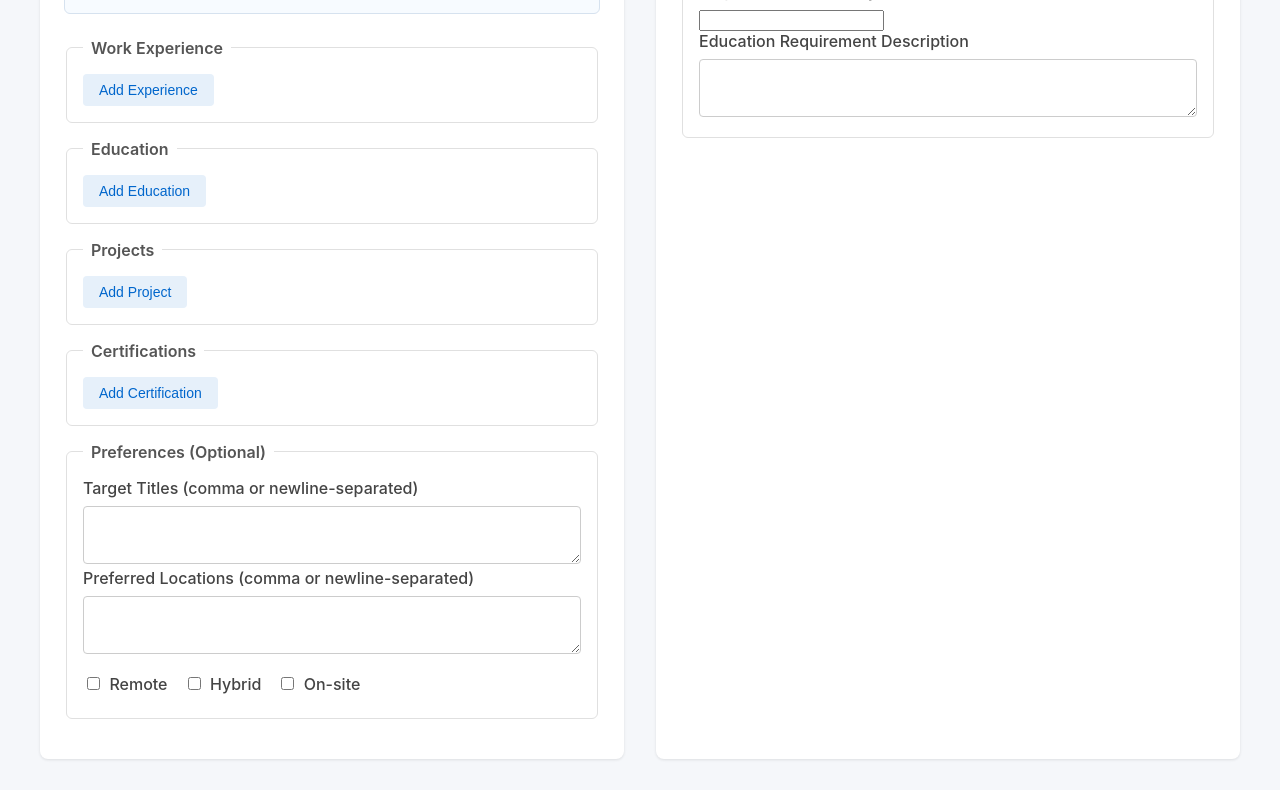
it: AnalysisForm › adds and removes Certification entries
(page scrolled)
What coordinates should you click on to do the following:
click the button "Add Certification"
I would click on:
 (150, 393)
Its box is [83, 377, 218, 409].
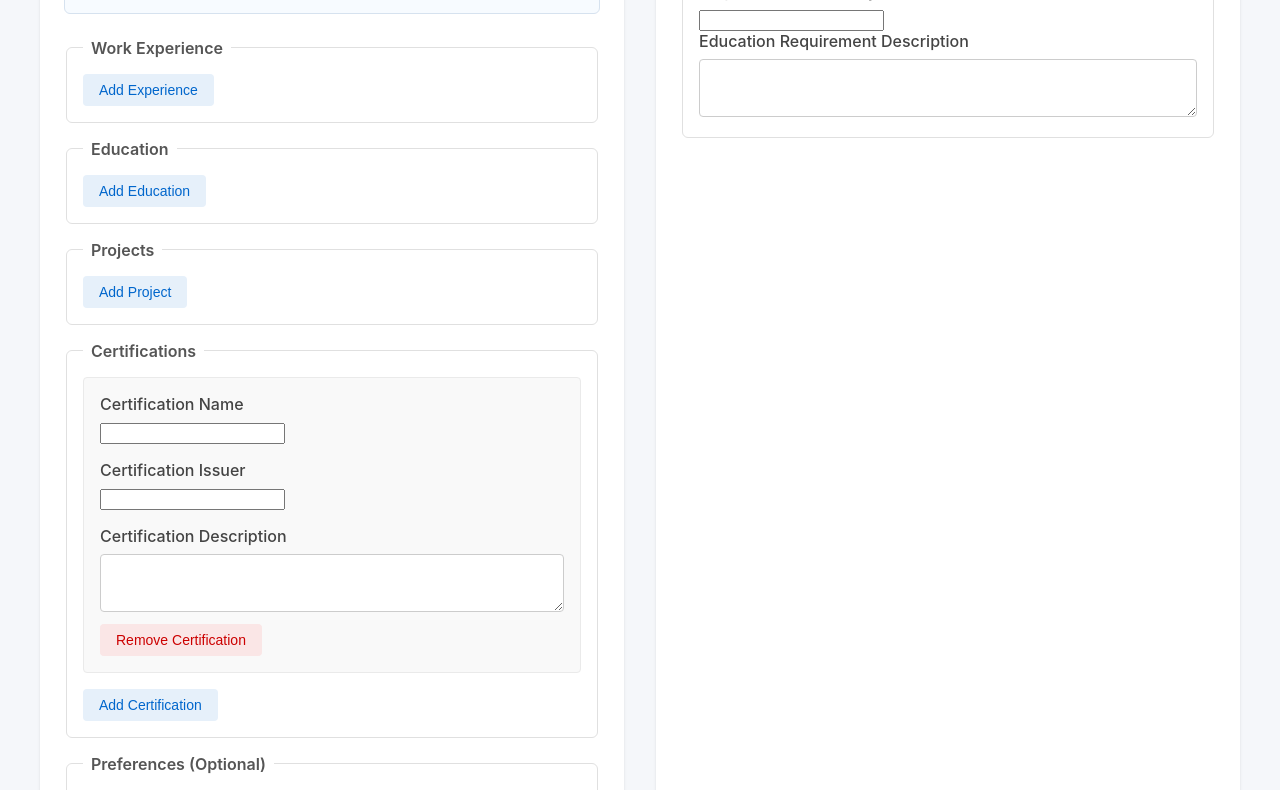
expect the field labelled "Certification Name" is shown: met, box [100, 423, 285, 444]
What coordinates should you click on to do the following:
click the button "Remove Certification"
I would click on:
 (181, 640)
Its box is [100, 624, 262, 656].
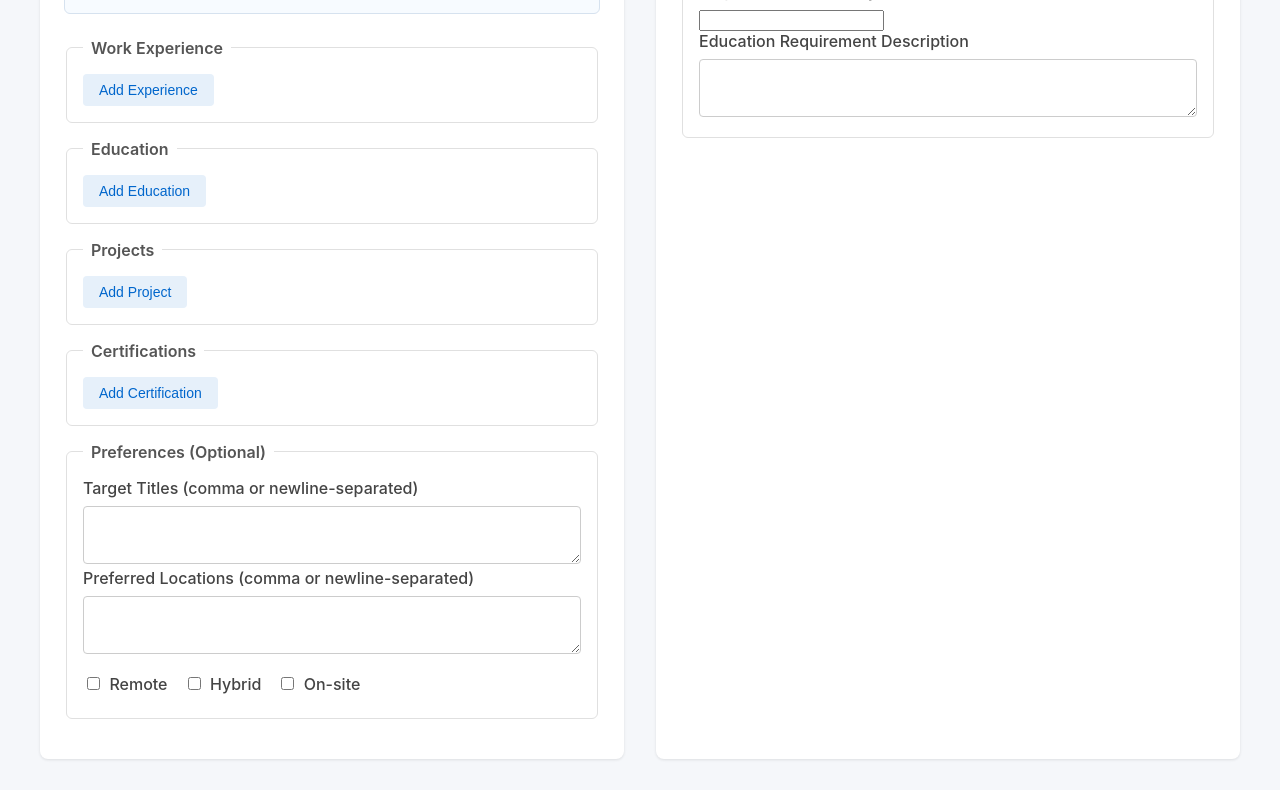
expect the label labelled "Certification Name" is gone: met
